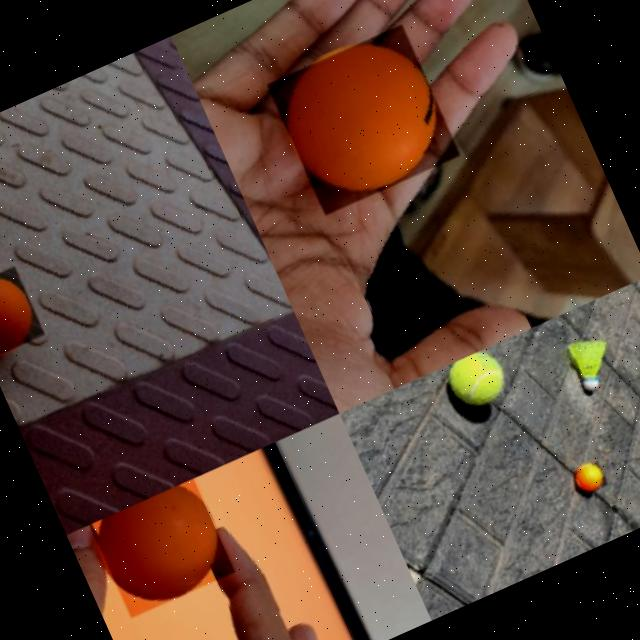ping-pong-ball: (265, 24, 460, 216), (87, 480, 236, 620), (0, 265, 44, 360), (573, 462, 607, 496)
